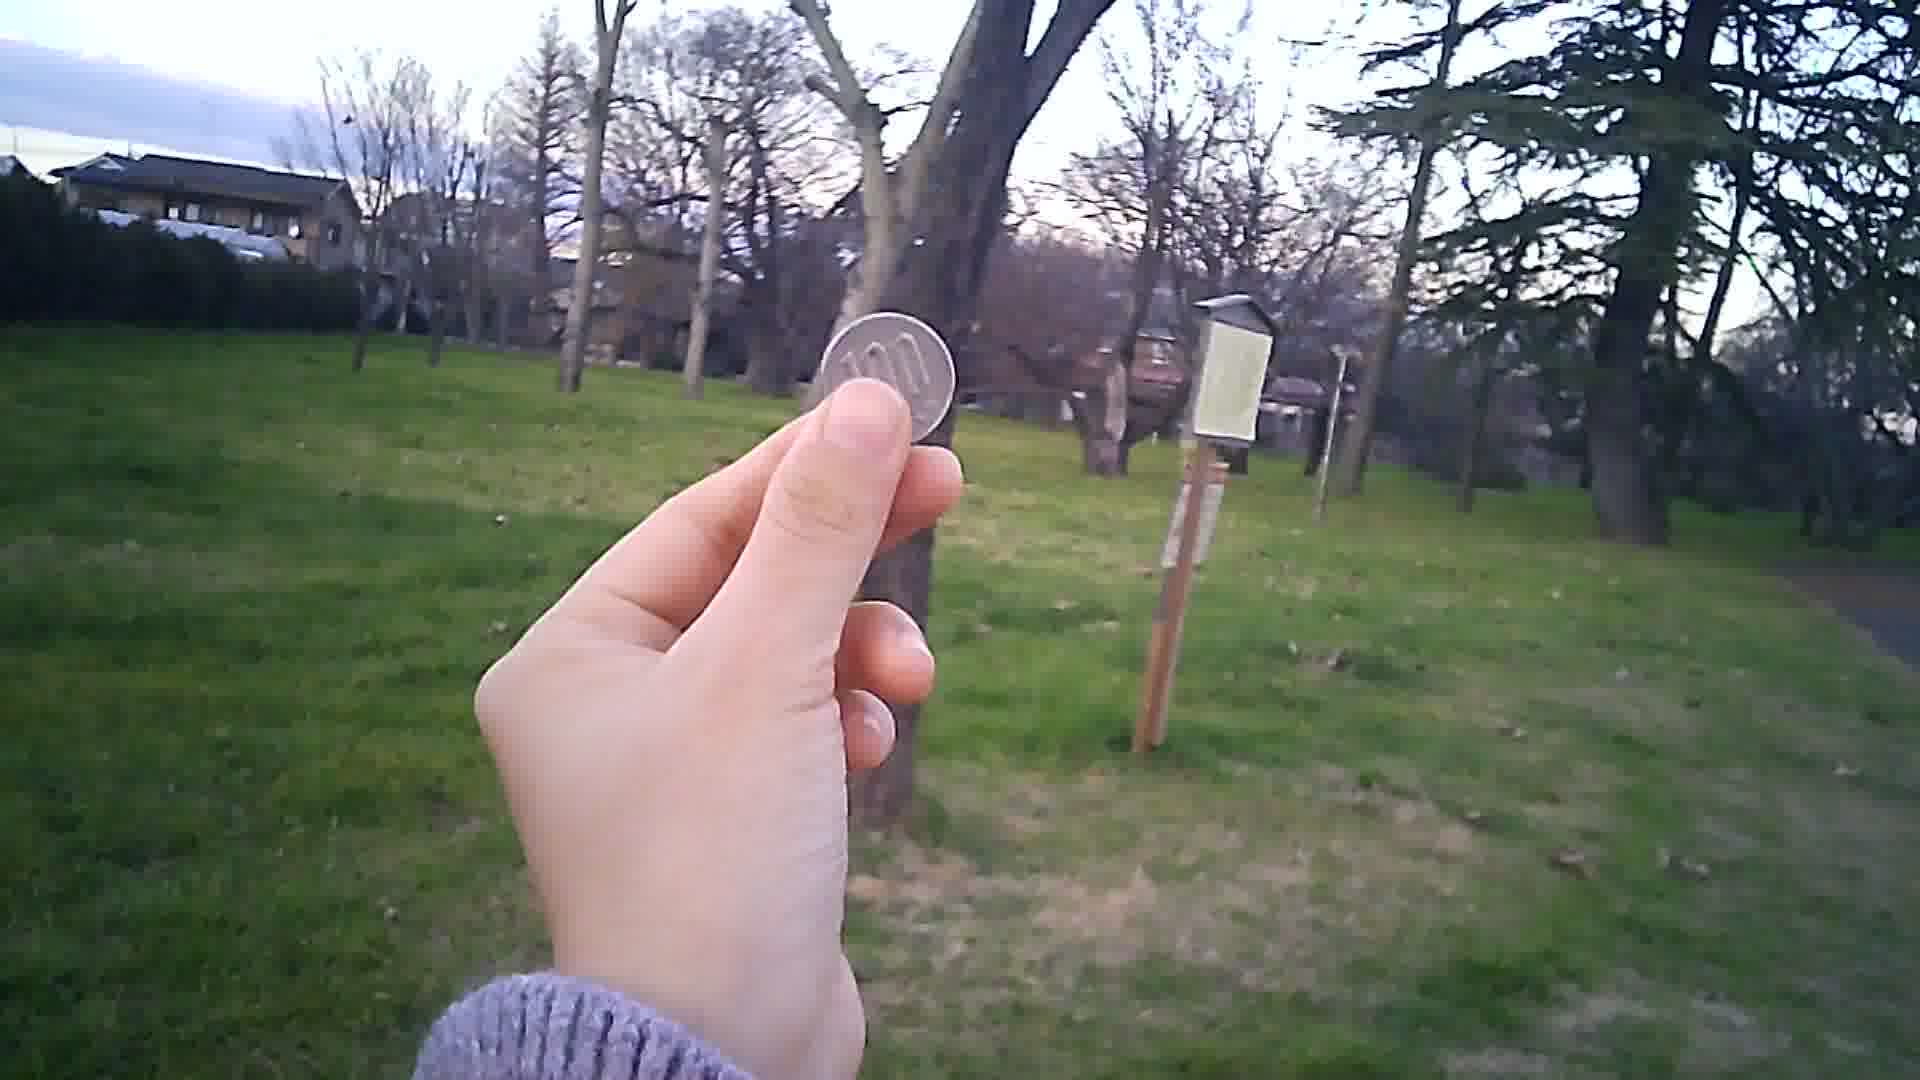100 Yen: (804, 310, 967, 456)
